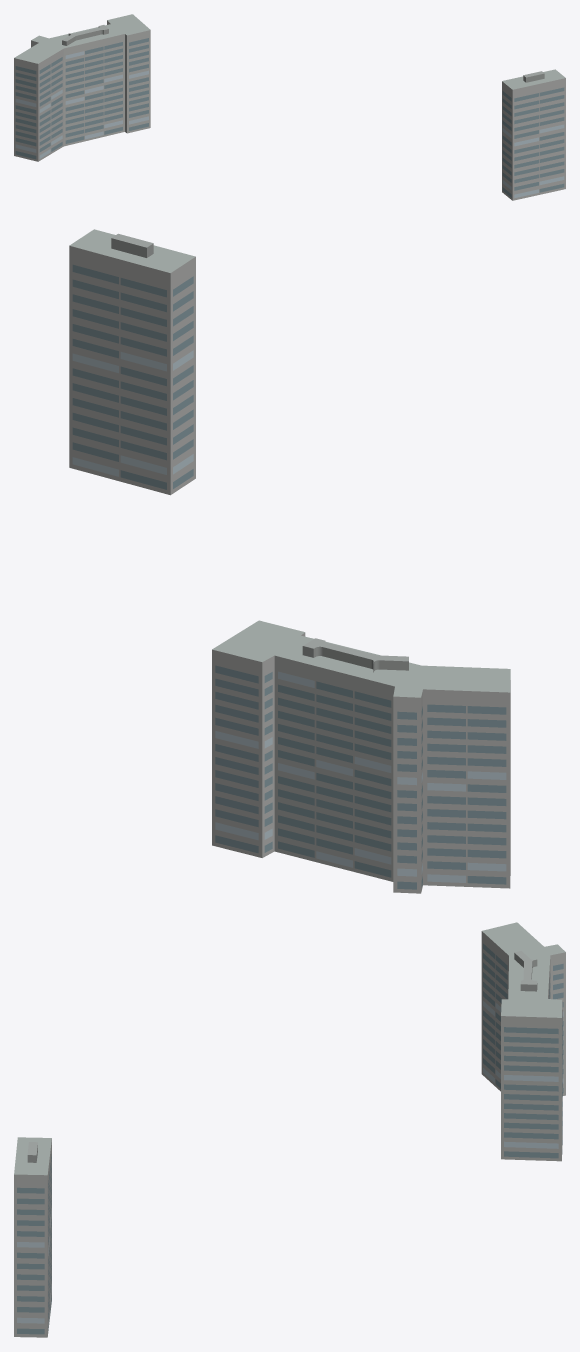
The model's file is apt-a10027553.glb.
The picture shows the model from 3 angles, top to bottom: view 1: azimuth 30°, elevation 25°; view 2: azimuth 150°, elevation 25°; view 3: azimuth 270°, elevation 25°; orthographic projection. The views are drawn at different scales.
Visible parts, largest first — view 1: apt-a10027553; view 2: apt-a10027553; view 3: apt-a10027553.
Part boxes in pixels (x1,y1,x2,y2): apt-a10027553: (14,14,565,200); apt-a10027553: (69,229,510,893); apt-a10027553: (14,922,565,1337).
Size of the model in its own units: 175 by 51 by 150.
